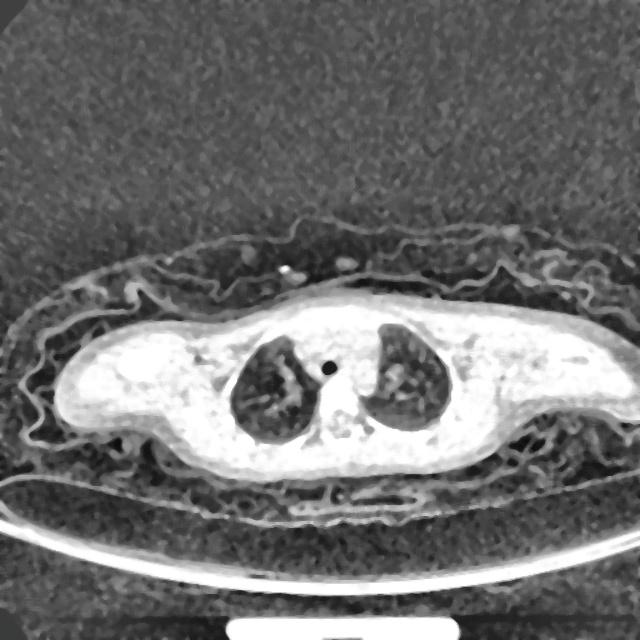covid: (50, 283, 638, 490)
